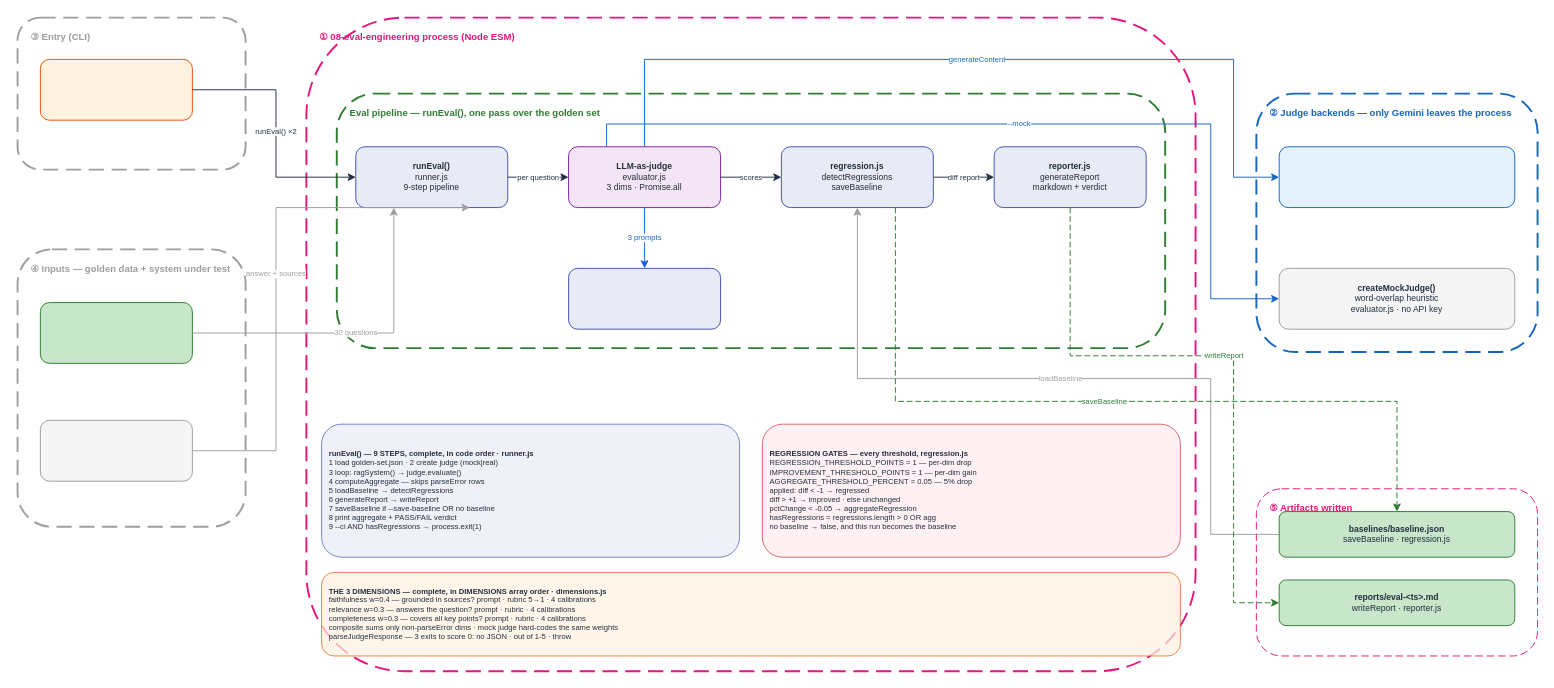
Image size: 1554x688. Some labels were removed from this diagram. Here are the shapes that lost their labels. From the top down, the centre of each, then its label:
At pixel 115 89: "demo.js runDemo() perfect vs degraded".
At pixel 1396 177: "Gemini API gemini-2.0-flash · temp 0.1 evaluator.js · maxOut 1024".
At pixel 644 298: "dimensions.js 3 rubric prompts".
At pixel 115 332: "golden-set.json 30 Q&A triples read at runner.js".
At pixel 115 450: "RAG under test injected fn called at runner.js".
